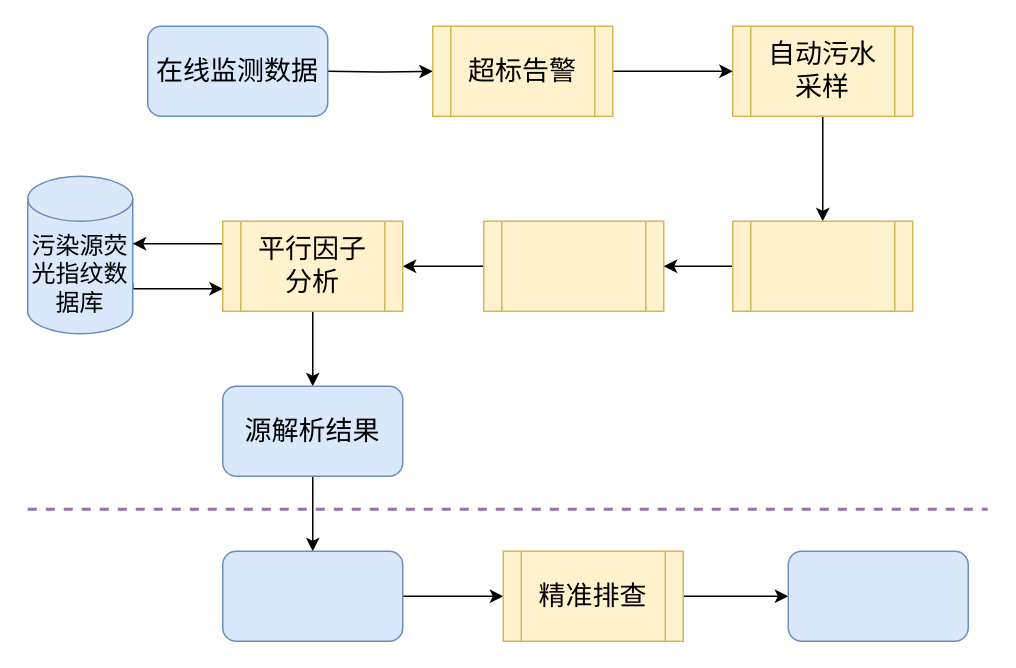
This 1016x668 diagram has some shape labels left out. The centre of each missing label's shape, as x and y in pixels:
三维荧光 快速检测: the point at 573,265
溯源定位: the point at 877,595
管道机器人: the point at 312,595
预处理: the point at 822,265
